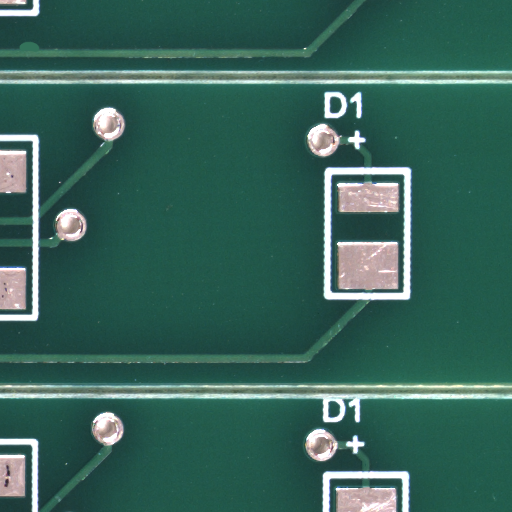Spur: (29, 47, 50, 62)
